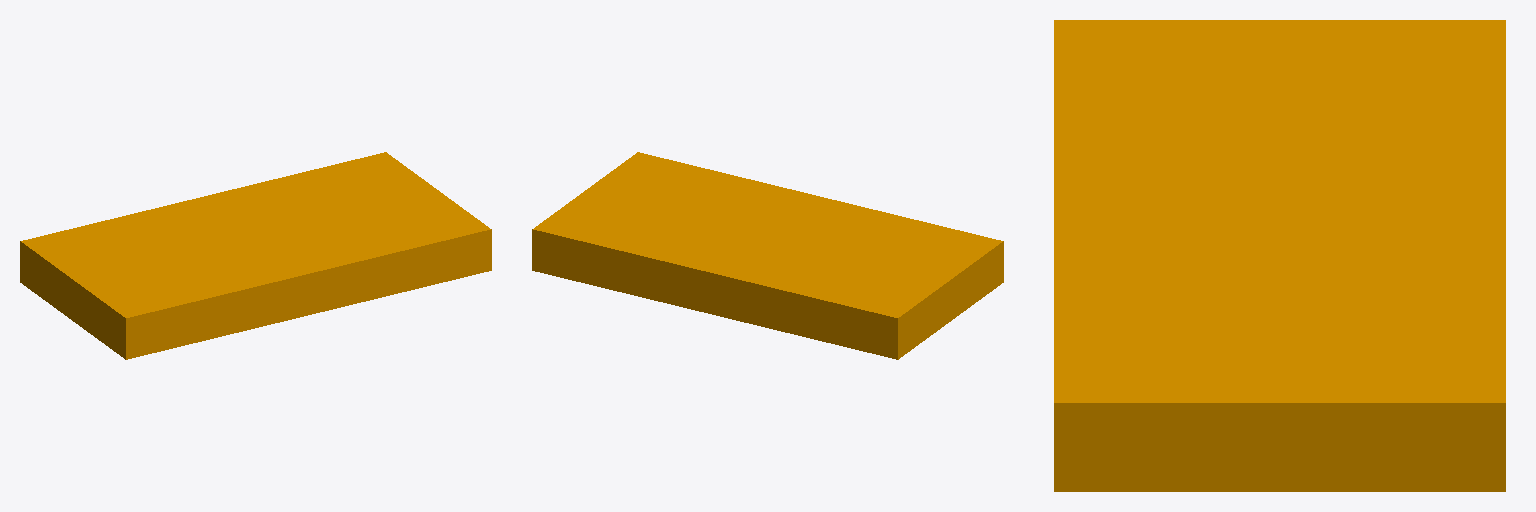
robot.urdf — surface:
<?xml version="1.0"?>
<robot name="surface">
  <link name="base_link">

    <collision>
      <geometry>
        <box size="9.22 4.61 1"/>
      </geometry>
    </collision>

    <inertial>
      <mass value="50"/>
    	<inertia ixx="108" ixy="0" ixz="0" iyy="421" iyz="0" izz="521"/>
  	</inertial>

    <visual>
      <geometry>
        <box size="9.22 4.61 1"/>
      </geometry>
    </visual>

  </link>
</robot>

--- Facts derived from the render (not from the file) ---
3 views of the same robot in one strip: view 1: azimuth 30°, elevation 25°; view 2: azimuth 150°, elevation 25°; view 3: azimuth 270°, elevation 25° (orthographic).
Robot: surface — 1 links, 0 joints (none); root link base_link; default pose: all joints at 0.
Visible links, largest first — view 1: base_link; view 2: base_link; view 3: base_link.
Link boxes in pixels (bbox=[...]): base_link: bbox=[20, 152, 491, 359]; base_link: bbox=[532, 152, 1003, 359]; base_link: bbox=[1054, 20, 1505, 491].
Bounding box of the posed robot: 9.22 × 4.61 × 1 m (x, y, z).
Geometry: primitives only (box / cylinder / sphere), no mesh files.